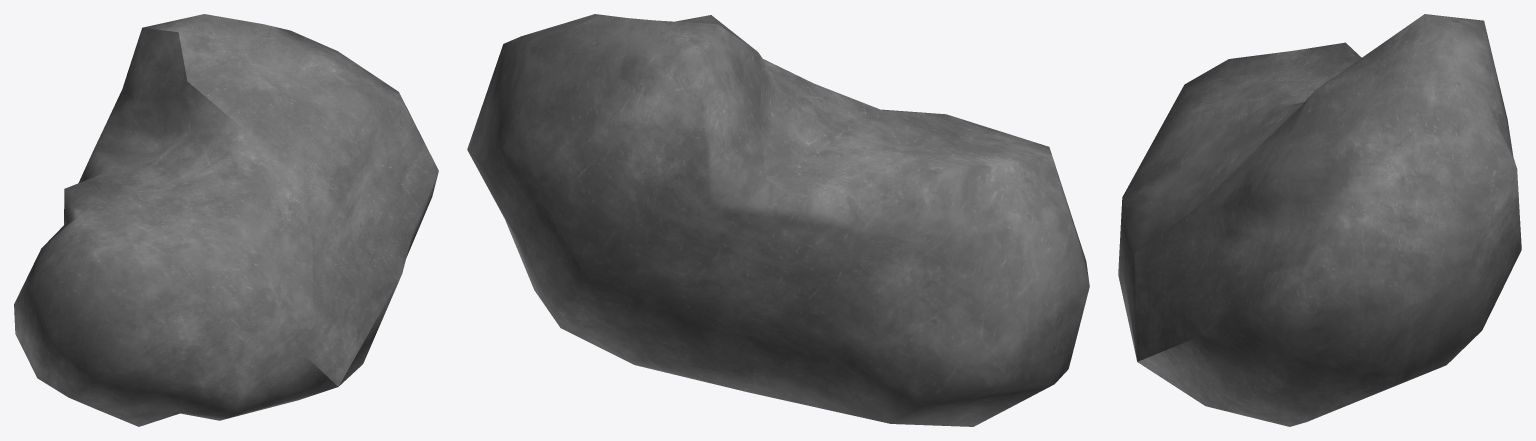
The model's file is rock.gltf.
3 renders of one model, left to right at view 1: azimuth 30°, elevation 25°; view 2: azimuth 150°, elevation 25°; view 3: azimuth 270°, elevation 25°, orthographic. The views are drawn at different scales.
Parts seen in each view (by area): view 1: Low; view 2: Low; view 3: Low.
Boxes of the visible parts, x1,y1,x2,y2 form: Low: (14, 14, 438, 426); Low: (467, 14, 1089, 426); Low: (1118, 14, 1521, 426).
Size of the model in its own units: 1.9 by 1.39 by 1.4.
Materials: 1 (1 with a texture image).
